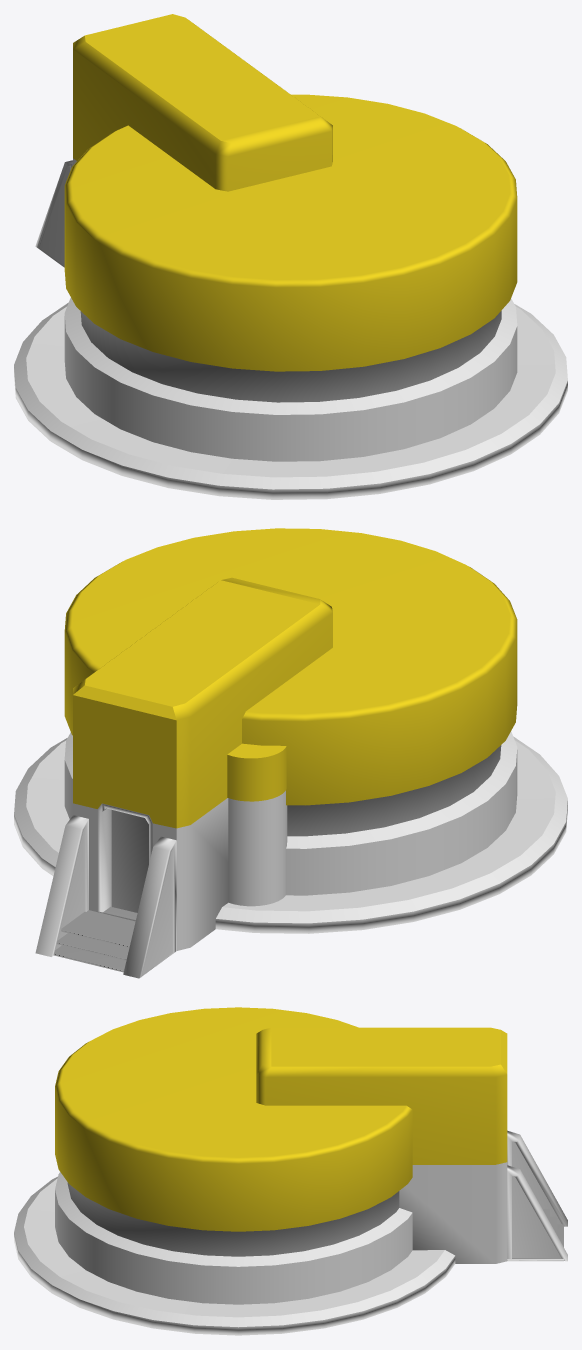
Rendered from Generic_Building.fbx.
The picture shows the model from 3 angles, top to bottom: view 1: azimuth 30°, elevation 25°; view 2: azimuth 150°, elevation 25°; view 3: azimuth 270°, elevation 25°; orthographic projection. The views are drawn at different scales.
Visible parts, largest first — view 1: Cylinder.001; view 2: Cylinder.001; view 3: Cylinder.001.
Part boxes in pixels (x1,y1,x2,y2): Cylinder.001: (14,14,567,499); Cylinder.001: (14,528,567,978); Cylinder.001: (14,1007,567,1335).
Size of the model in its own units: 8.75 by 4.16 by 10.8.
